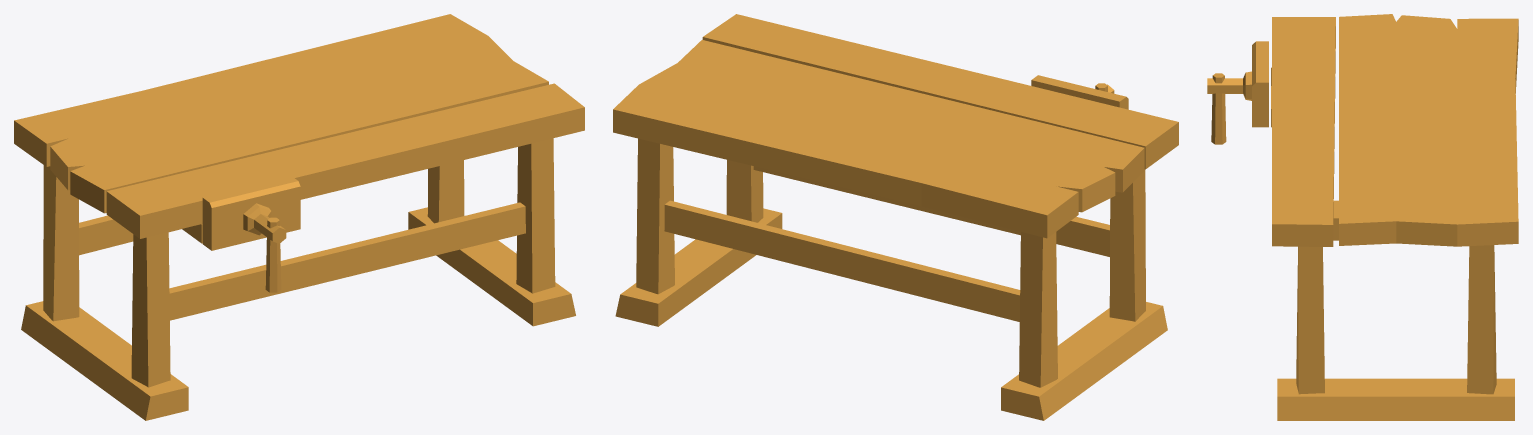
Rendered from table-crafting-wood.fbx.
The picture shows the model from 3 angles, left to right: view 1: azimuth 30°, elevation 25°; view 2: azimuth 150°, elevation 25°; view 3: azimuth 270°, elevation 25°; orthographic projection. The views are drawn at different scales.
Visible parts, largest first — view 1: table-crafting-wood; view 2: table-crafting-wood; view 3: table-crafting-wood.
Boxes of the visible parts, bbox=[...] form: table-crafting-wood: bbox=[14, 14, 584, 420]; table-crafting-wood: bbox=[613, 14, 1178, 420]; table-crafting-wood: bbox=[1207, 14, 1518, 420].
Size of the model in its own units: 2.04 by 0.9187 by 1.27.
